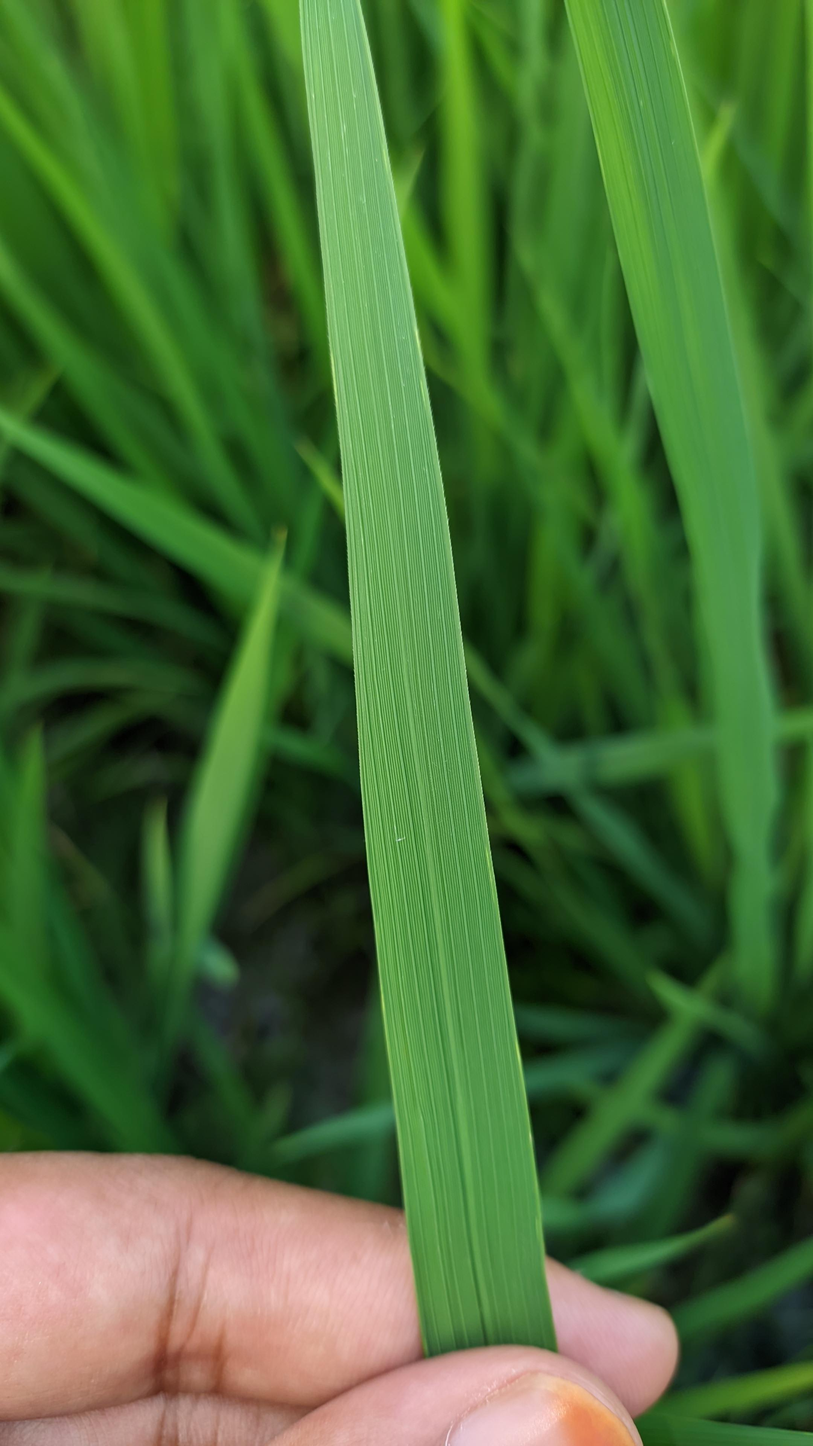Healthy: (299, 0, 558, 1358)
